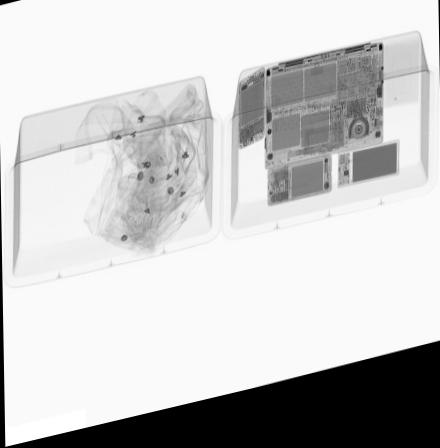Powerbank: (336, 156, 398, 206)
